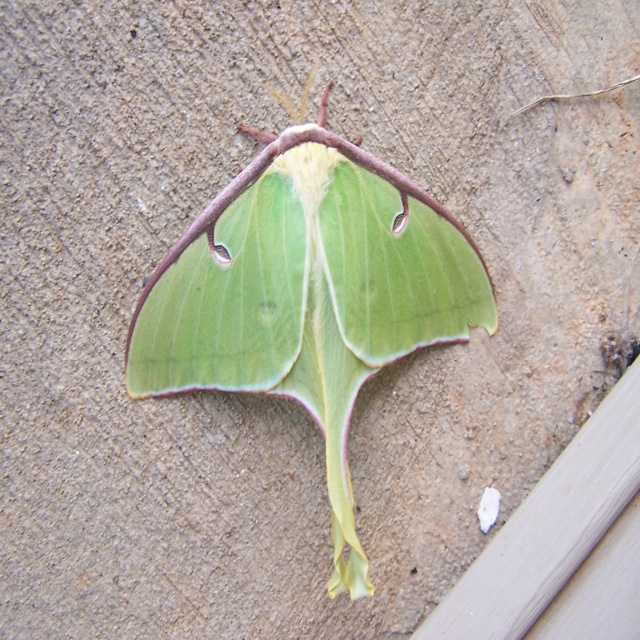Moths and butterflies: (118, 77, 503, 604)
